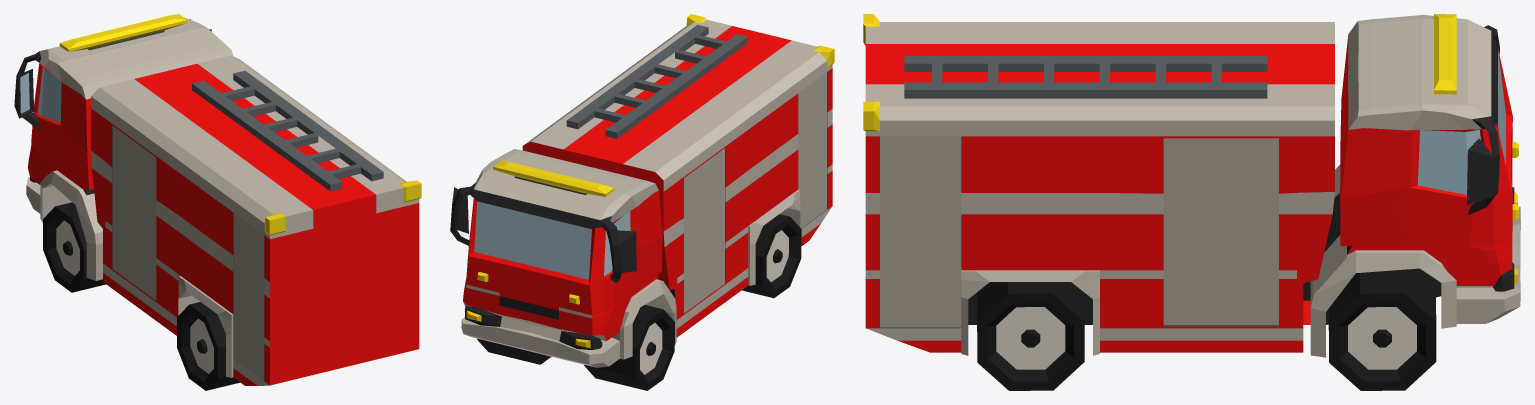
Rendered from ForestFireTruck2.fbx.
The picture shows the model from 3 angles, left to right: view 1: azimuth 30°, elevation 25°; view 2: azimuth 150°, elevation 25°; view 3: azimuth 270°, elevation 25°; orthographic projection. The views are drawn at different scales.
Visible parts, largest first — view 1: ForestFireTruck2; view 2: ForestFireTruck2; view 3: ForestFireTruck2.
Part boxes in pixels (left/top/right/bottom): ForestFireTruck2: left=14, top=14, right=421, bottom=390; ForestFireTruck2: left=450, top=14, right=834, bottom=390; ForestFireTruck2: left=863, top=14, right=1520, bottom=390.
Bounding box in the file's own units: 308 × 335 × 692.
1 material, 1 textured.
